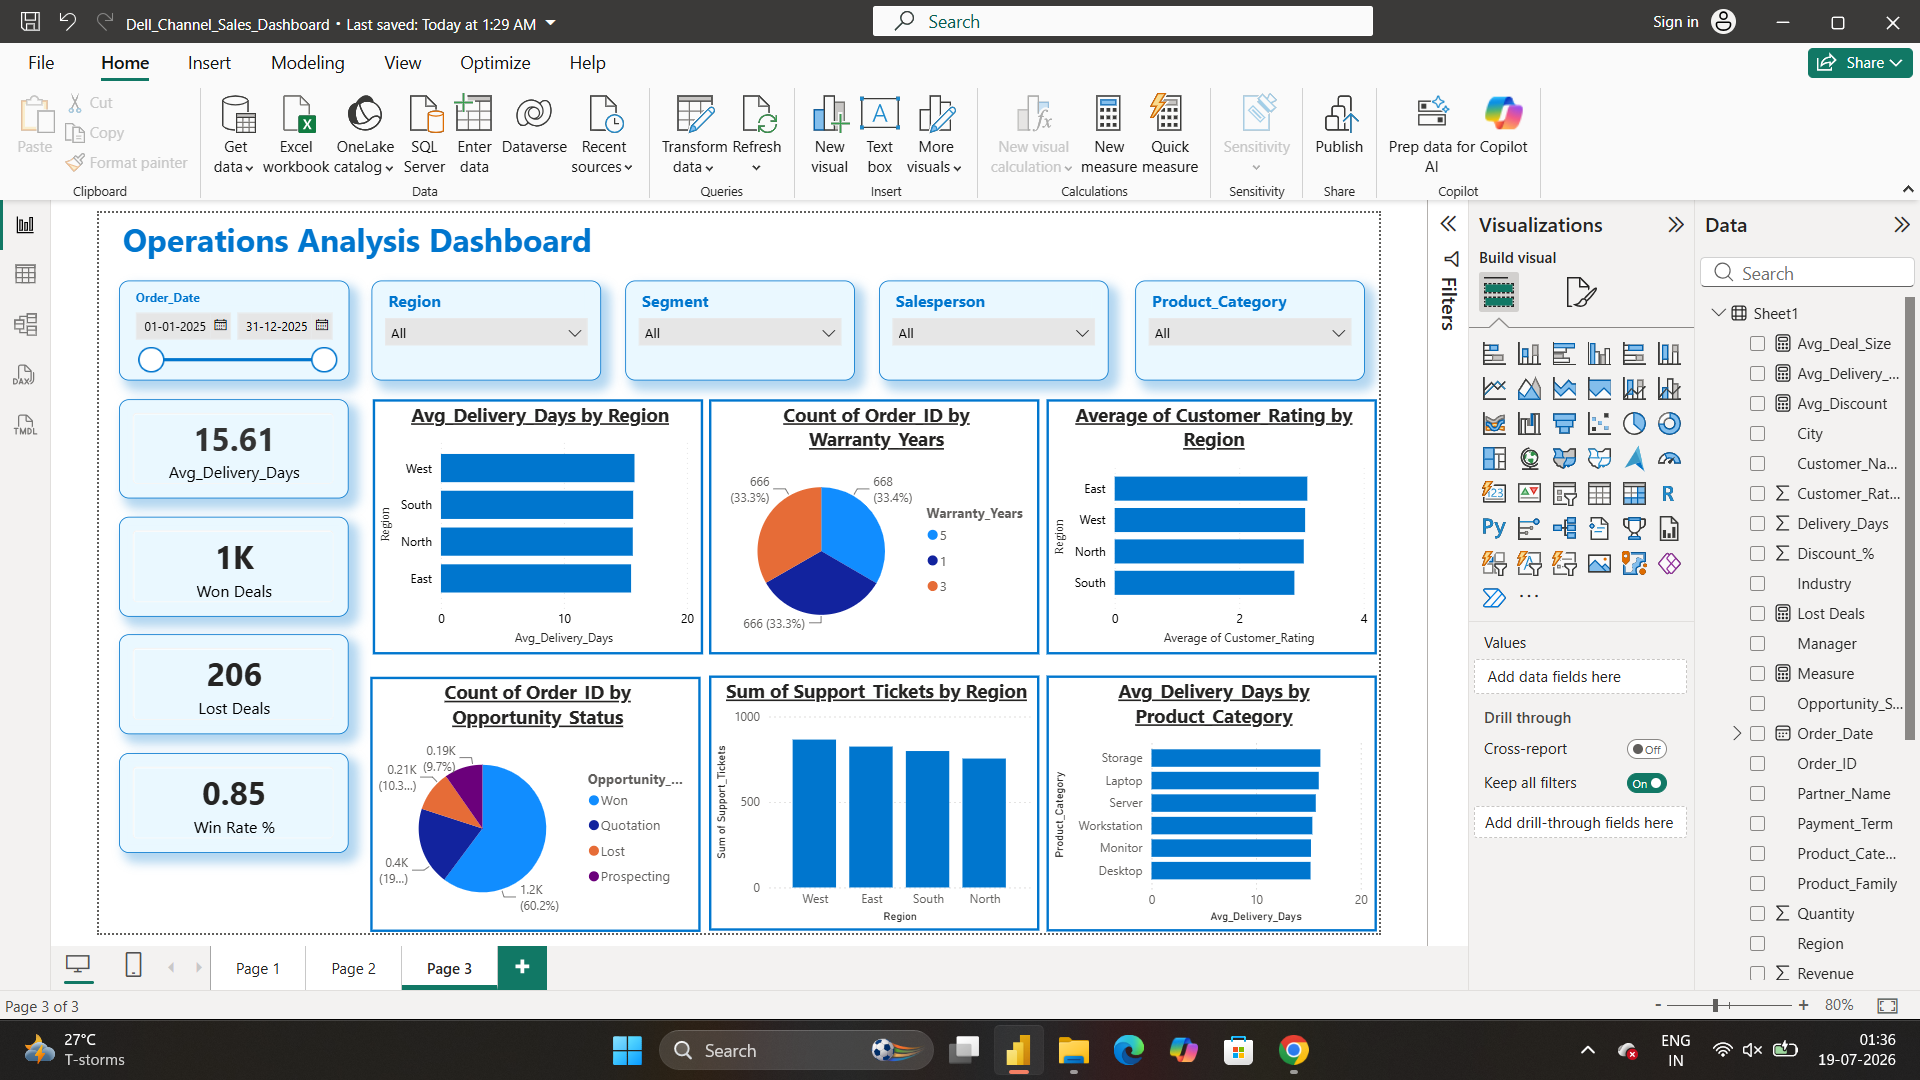

The page's visual inventory and layout, read from the dashboard file:
{"tool":"powerbi","page":{"name":"Page 3","canvas":[1280,720],"ordinal":2},"visuals":[{"type":"textbox","box":[18.3,0,598,56.3],"z":0},{"type":"clusteredBarChart","fields":{"Category":["Sheet1.Region"],"Y":["Sheet1.Avg_Delivery_Days"]},"box":[273.3,186,330,255],"z":1000},{"type":"pieChart","fields":{"Category":["Sheet1.Opportunity_Status"],"Y":["CountNonNull(Sheet1.Order_ID)"]},"box":[270.7,464.3,330,255.5],"z":2000},{"type":"slicer","fields":{"Values":["Sheet1.Order_Date"]},"box":[19.6,67.3,230,100],"z":3000},{"type":"slicer","fields":{"Values":["Sheet1.Segment"]},"box":[525.8,67.3,229.9,100.3],"z":4000},{"type":"slicer","fields":{"Values":["Sheet1.Product_Category"]},"box":[1035.7,67.3,229.9,100.3],"z":5000},{"type":"slicer","fields":{"Values":["Sheet1.Salesperson"]},"box":[780.2,67.3,229.9,100.3],"z":6000},{"type":"slicer","fields":{"Values":["Sheet1.Region"]},"box":[272.7,67.3,229.9,100.3],"z":7000},{"type":"cardVisual","fields":{"Data":["Sheet1.Avg_Delivery_Days"]},"box":[19.6,185.9,229.9,99],"z":8000},{"type":"cardVisual","fields":{"Data":["Sheet1.Won Deals"]},"box":[19.6,303.3,229.9,100.3],"z":9000},{"type":"cardVisual","fields":{"Data":["Sheet1.Lost Deals"]},"box":[19.6,420.7,229.9,100.3],"z":10000},{"type":"cardVisual","fields":{"Data":["Sheet1.Win Rate %"]},"box":[19.6,540.5,229.9,100.3],"z":11000},{"type":"pieChart","fields":{"Category":["Sheet1.Warranty_Years"],"Y":["CountNonNull(Sheet1.Order_ID)"]},"box":[609.8,186,330.2,255.5],"z":12000},{"type":"clusteredColumnChart","fields":{"Category":["Sheet1.Region"],"Y":["Sum(Sheet1.Support_Tickets)"]},"box":[609.8,463,330.2,255.5],"z":13000},{"type":"clusteredBarChart","fields":{"Category":["Sheet1.Region"],"Y":["Avg(Sheet1.Customer_Rating)"]},"box":[947.5,186,330,255],"z":14000},{"type":"clusteredBarChart","fields":{"Category":["Sheet1.Product_Category"],"Y":["Sheet1.Avg_Delivery_Days"]},"box":[948,463,330,256],"z":15000}]}

Visuals, with their boxes on the page's 1280x720 design canvas (x1, y1, x2, y2). These are canvas units, not pixel positions in the 1920x1080 screenshot, which may show the page scaled, cropped or inside an application window:
textbox: bbox=[18, 0, 616, 56]
clusteredBarChart - Sheet1.Region x Sheet1.Avg_Delivery_Days: bbox=[273, 186, 603, 441]
pieChart - Sheet1.Opportunity_Status x CountNonNull(Sheet1.Order_ID): bbox=[271, 464, 601, 720]
slicer - Sheet1.Order_Date: bbox=[20, 67, 250, 167]
slicer - Sheet1.Segment: bbox=[526, 67, 756, 168]
slicer - Sheet1.Product_Category: bbox=[1036, 67, 1266, 168]
slicer - Sheet1.Salesperson: bbox=[780, 67, 1010, 168]
slicer - Sheet1.Region: bbox=[273, 67, 503, 168]
cardVisual - Sheet1.Avg_Delivery_Days: bbox=[20, 186, 250, 285]
cardVisual - Sheet1.Won Deals: bbox=[20, 303, 250, 404]
cardVisual - Sheet1.Lost Deals: bbox=[20, 421, 250, 521]
cardVisual - Sheet1.Win Rate %: bbox=[20, 540, 250, 641]
pieChart - Sheet1.Warranty_Years x CountNonNull(Sheet1.Order_ID): bbox=[610, 186, 940, 442]
clusteredColumnChart - Sheet1.Region x Sum(Sheet1.Support_Tickets): bbox=[610, 463, 940, 718]
clusteredBarChart - Sheet1.Region x Avg(Sheet1.Customer_Rating): bbox=[948, 186, 1278, 441]
clusteredBarChart - Sheet1.Product_Category x Sheet1.Avg_Delivery_Days: bbox=[948, 463, 1278, 719]
